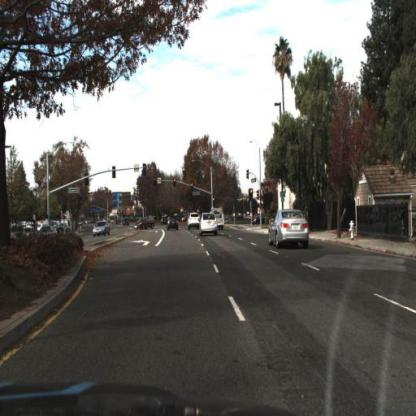car: (268, 208, 312, 254), (199, 211, 220, 240), (133, 215, 159, 235), (187, 210, 203, 236), (93, 219, 111, 238), (251, 210, 269, 228), (167, 216, 180, 233)
trafficLight: (211, 195, 218, 209)
trafficLight-Red: (249, 186, 255, 205), (172, 176, 179, 192), (190, 181, 196, 194)
trafficLight-RedLeft: (152, 176, 158, 189)
